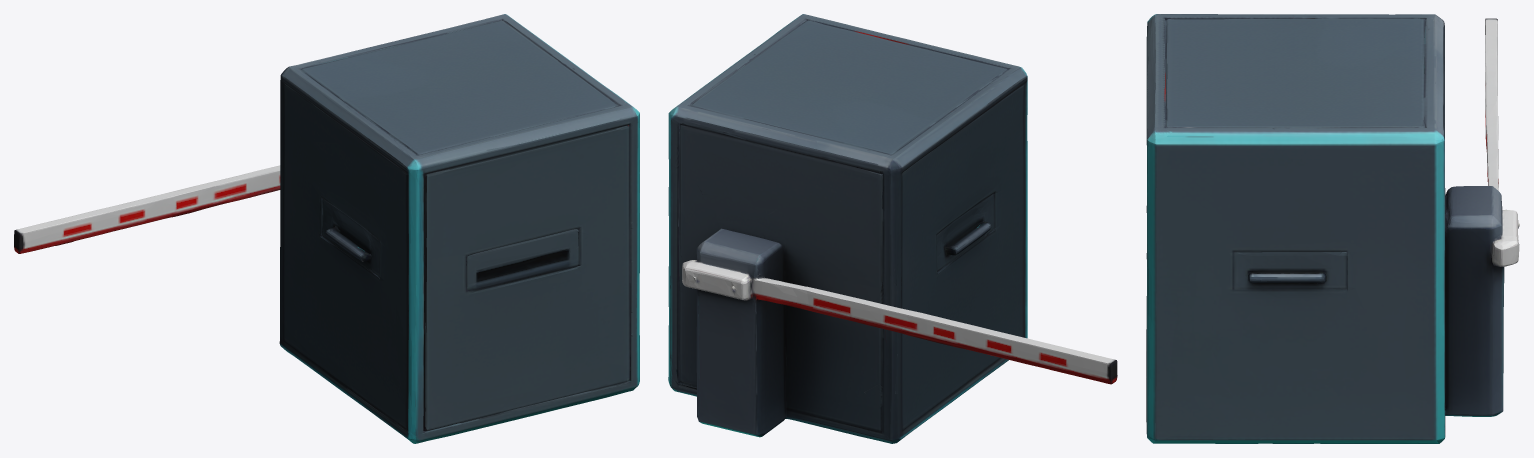
Rendered from portaria-3d-2.glb.
3 views of the same model, side by side, from view 1: azimuth 30°, elevation 25°; view 2: azimuth 150°, elevation 25°; view 3: azimuth 270°, elevation 25° (orthographic). The views are drawn at different scales.
Visible parts, largest first — view 1: world; view 2: world; view 3: world.
Boxes of the visible parts, x1,y1,x2,y2 form: world: (14,14,639,443); world: (668,14,1117,443); world: (1146,14,1519,443).
Size of the model in its own units: 0.998 by 0.5678 by 0.6122.
Materials: 1 (1 with a texture image).
